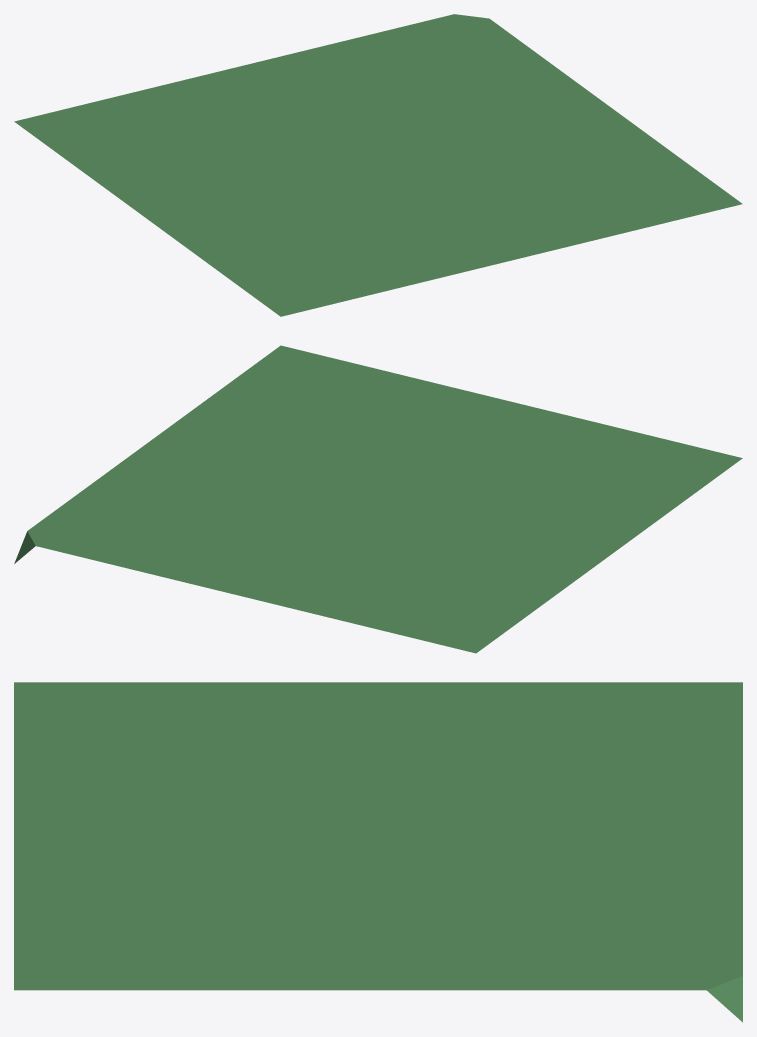
File: Grass_Interior_Corner_1.fbx
3 renders of one model, top to bottom at view 1: azimuth 30°, elevation 25°; view 2: azimuth 150°, elevation 25°; view 3: azimuth 270°, elevation 25°, orthographic. The views are drawn at different scales.
Visible parts, largest first — view 1: Grass_1_Interior_Corner; view 2: Grass_1_Interior_Corner; view 3: Grass_1_Interior_Corner.
Boxes of the visible parts, x1,y1,x2,y2 form: Grass_1_Interior_Corner: (14,14,742,316); Grass_1_Interior_Corner: (14,345,742,653); Grass_1_Interior_Corner: (14,682,742,1022).
Size of the model in its own units: 100 by 4.9 by 100.
